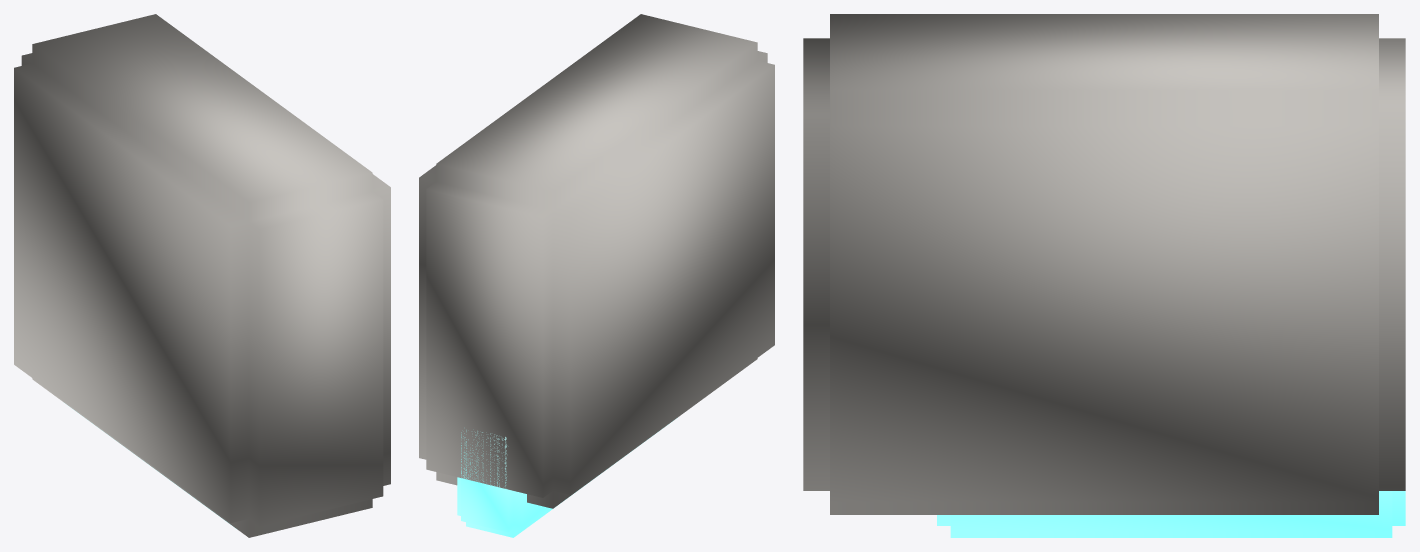
The model's file is shield_pylon.glb.
3 views of the same model, side by side, from view 1: azimuth 30°, elevation 25°; view 2: azimuth 150°, elevation 25°; view 3: azimuth 270°, elevation 25° (orthographic). The views are drawn at different scales.
Parts seen in each view (by area): view 1: shield_pylon; view 2: shield_pylon; view 3: shield_pylon.
Part boxes in pixels (box(x1,y1,x2,y2)): shield_pylon: box(14, 14, 390, 537); shield_pylon: box(419, 14, 774, 537); shield_pylon: box(803, 14, 1405, 537).
Bounding box in the file's own units: 0.07 × 0.155 × 0.18.
